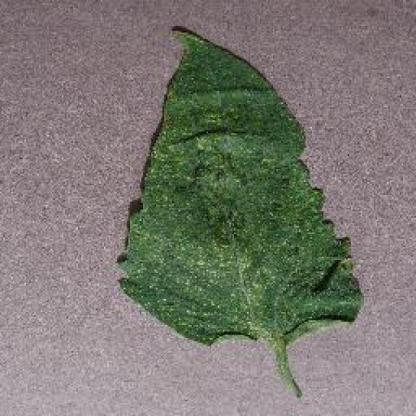Tomato_Spider_Mites: (121, 31, 362, 344)
